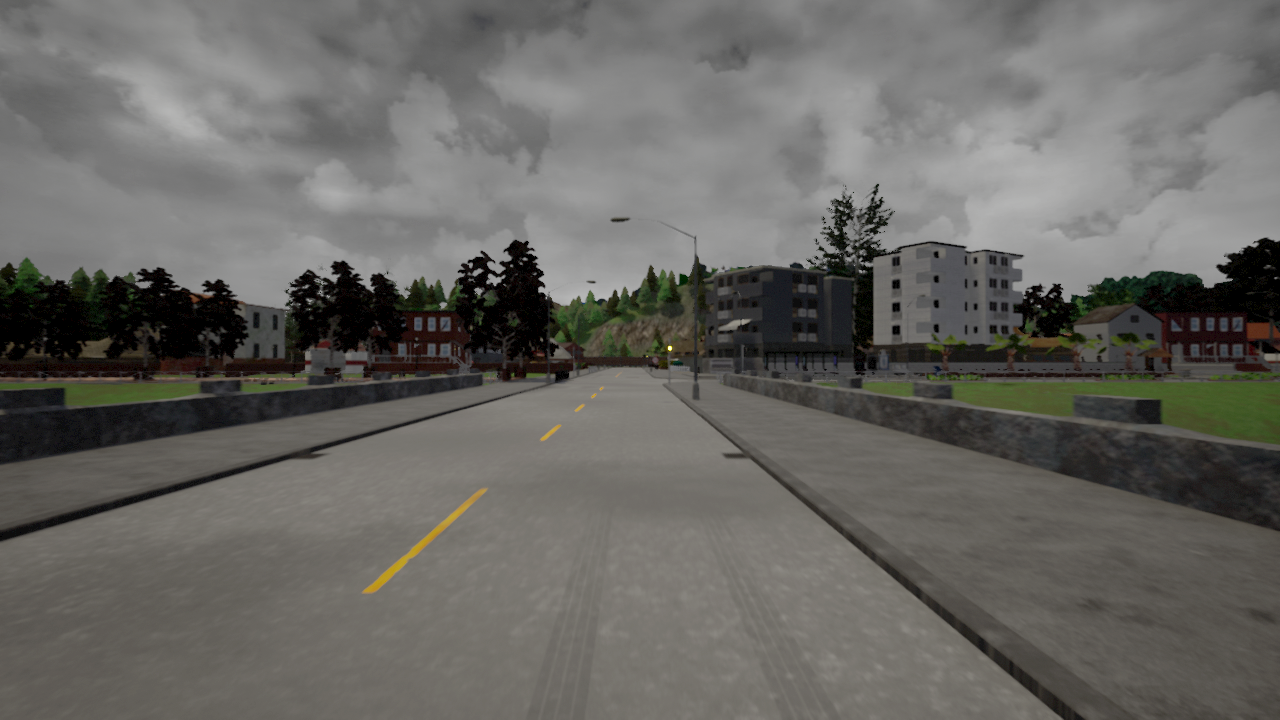yellow: (666, 340, 674, 356)
